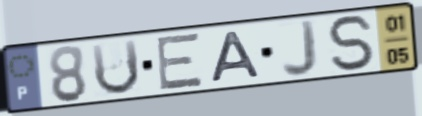8: (45, 43, 89, 105)
A: (208, 29, 264, 85)
E: (155, 30, 206, 93)
J: (279, 18, 320, 80)
S: (324, 13, 380, 73)
U: (88, 36, 143, 98)
